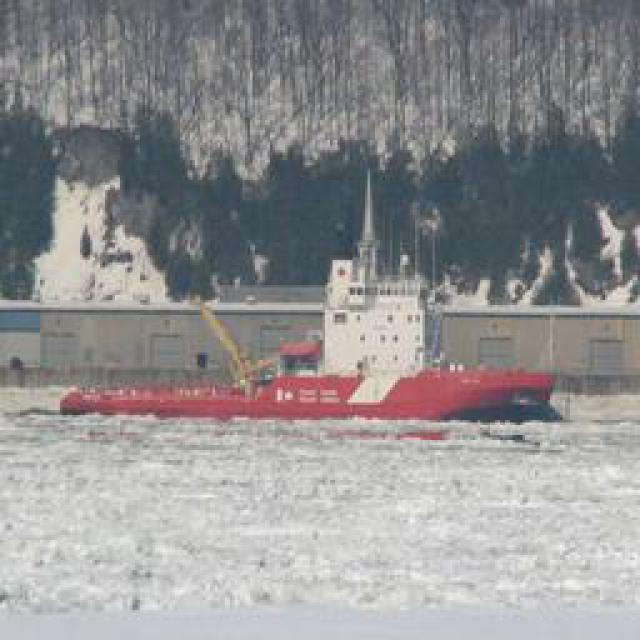Ship: (61, 358, 561, 426)
